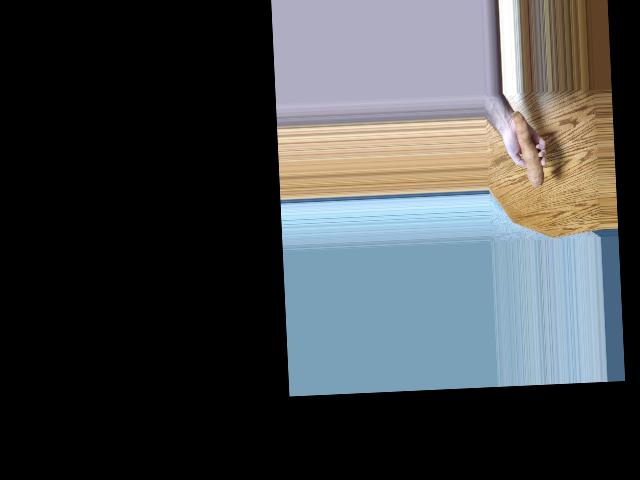sweet_potato: (514, 113, 546, 190)
